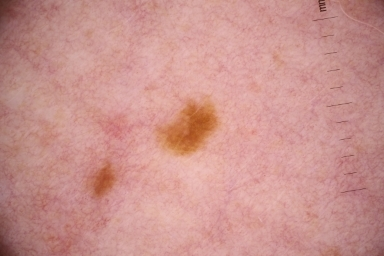nevus: (157, 100, 221, 155), (89, 163, 116, 200)
